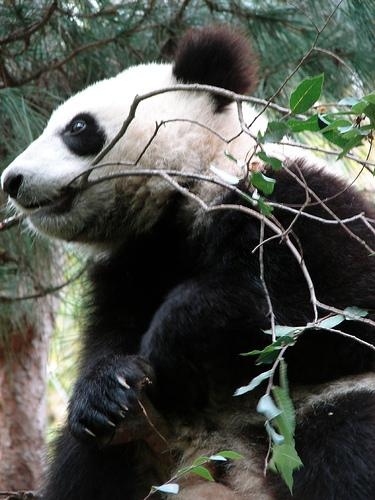panda: (2, 24, 374, 499), (249, 152, 374, 320), (89, 92, 255, 195)
